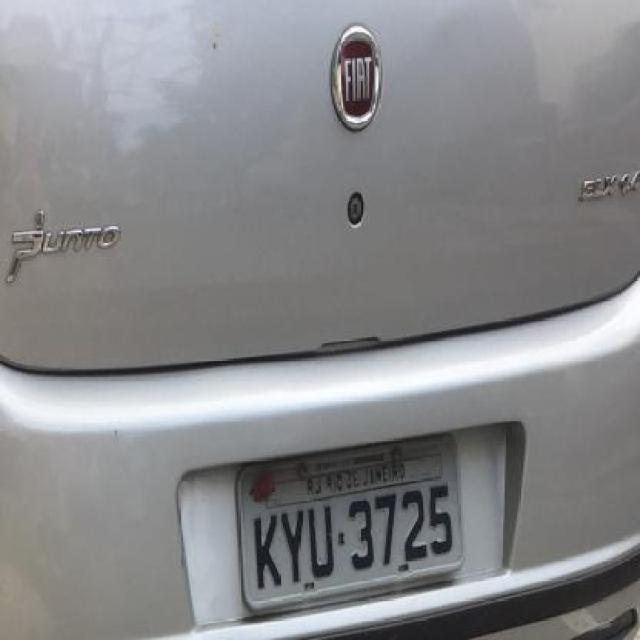old_plate: (231, 428, 468, 620)
